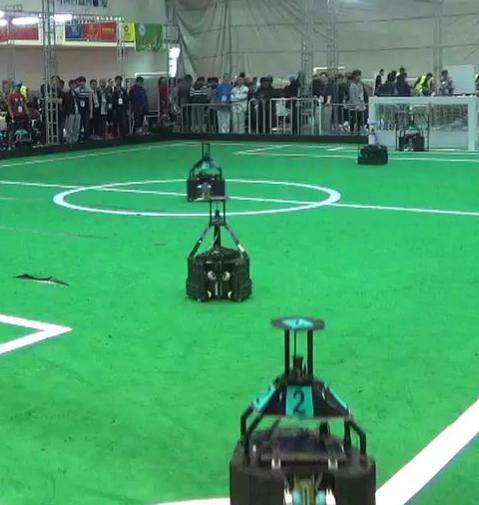robot: (225, 311, 380, 505), (177, 190, 263, 307), (175, 134, 234, 203)
